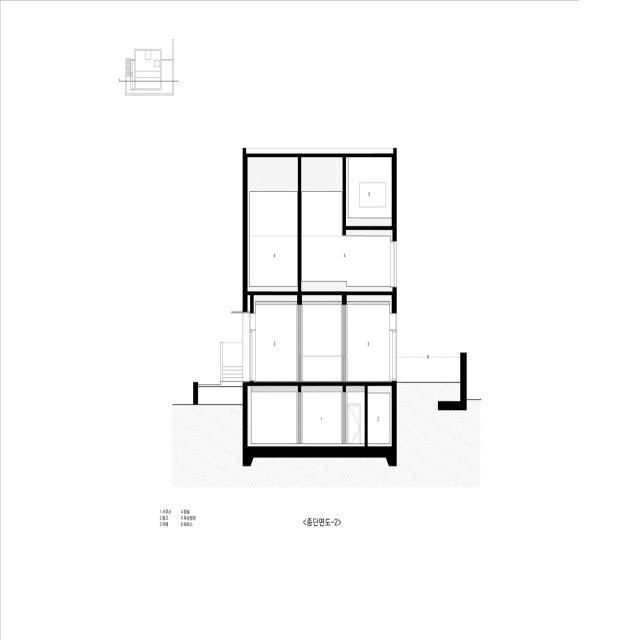space_bedroom: (301, 157, 393, 292), (247, 157, 298, 292)
space_other: (254, 295, 392, 382), (247, 386, 365, 447), (346, 157, 392, 226), (367, 386, 392, 447), (247, 295, 250, 312)
